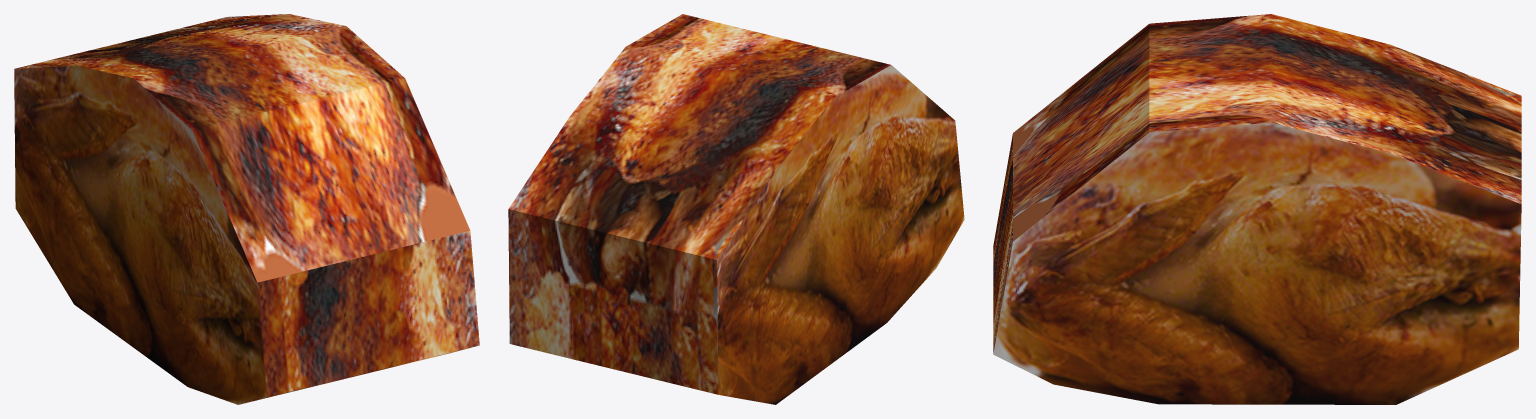
The model's file is Prop_SM_Turkey.fbx.
3 renders of one model, left to right at view 1: azimuth 30°, elevation 25°; view 2: azimuth 150°, elevation 25°; view 3: azimuth 270°, elevation 25°, orthographic. The views are drawn at different scales.
Visible parts, largest first — view 1: polySurface1; view 2: polySurface1; view 3: polySurface1.
Boxes of the visible parts, x1=… form: polySurface1: x1=14, y1=14, x2=479, y2=404; polySurface1: x1=508, y1=14, x2=964, y2=404; polySurface1: x1=993, y1=14, x2=1521, y2=404.
Size of the model in its own units: 0.3018 by 0.3655 by 0.6199.
